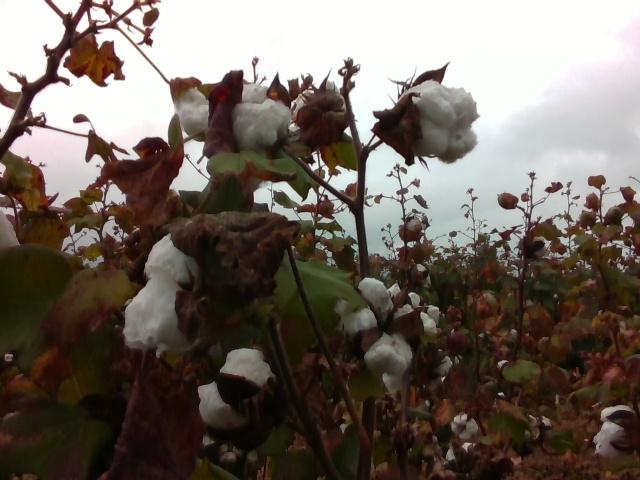cotton_ready: (124, 236, 202, 359), (345, 278, 437, 382), (196, 347, 275, 431), (402, 80, 479, 163), (231, 82, 292, 152), (387, 282, 444, 325), (595, 405, 640, 456), (175, 87, 211, 143), (0, 210, 19, 250)
